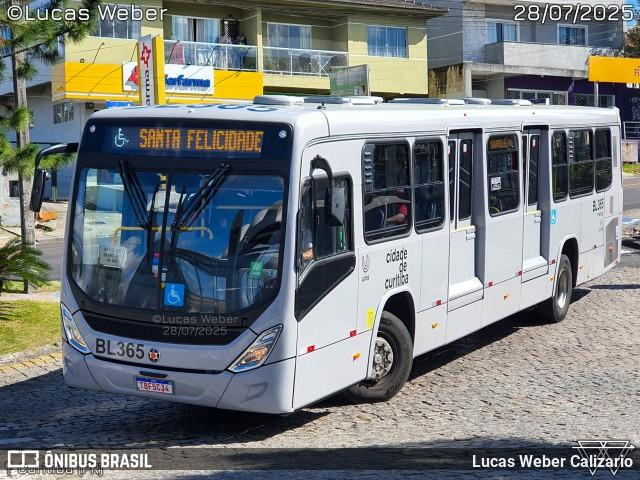SANTA FELICIDADE: (135, 123, 269, 155)
